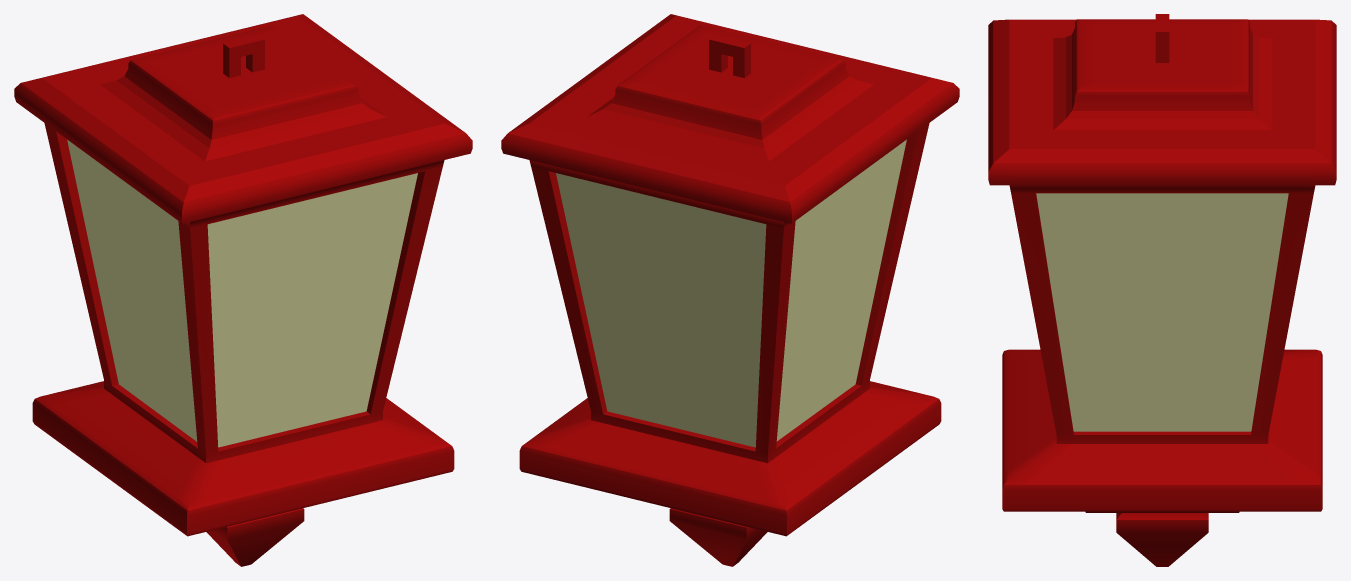
The model's file is Lantern.fbx.
The picture shows the model from 3 angles, left to right: view 1: azimuth 30°, elevation 25°; view 2: azimuth 150°, elevation 25°; view 3: azimuth 270°, elevation 25°; orthographic projection. The views are drawn at different scales.
Visible parts, largest first — view 1: lantern; view 2: lantern; view 3: lantern.
Boxes of the visible parts, box(x1,y1,x2,y2) form: lantern: box(14, 14, 472, 566); lantern: box(501, 14, 959, 566); lantern: box(988, 14, 1336, 566).
Size of the model in its own units: 0.5434 by 0.9327 by 0.5434.
